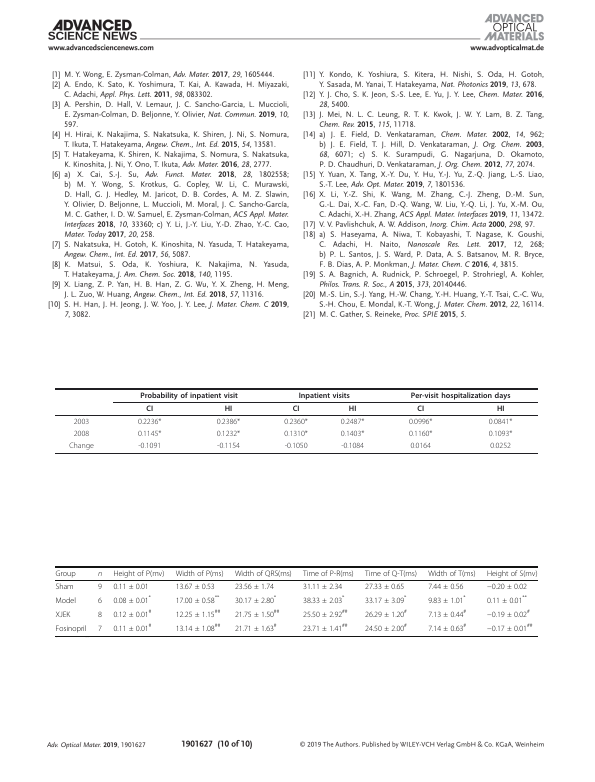borderless: (55, 565, 538, 636), (55, 387, 538, 453)
cell: (410, 391, 511, 400), (139, 391, 239, 400), (234, 569, 293, 578), (486, 622, 533, 633), (175, 608, 221, 619), (234, 608, 280, 619), (302, 608, 348, 619), (175, 622, 221, 633), (302, 622, 348, 633), (175, 594, 220, 605), (486, 608, 531, 619), (364, 569, 418, 578), (364, 608, 408, 619), (234, 622, 278, 633), (364, 622, 408, 633), (298, 391, 351, 400), (112, 569, 165, 578), (302, 569, 355, 578), (234, 594, 277, 605), (302, 594, 345, 605), (364, 594, 407, 605), (486, 569, 538, 578), (486, 594, 528, 605), (427, 569, 477, 578), (175, 569, 224, 578), (112, 594, 152, 605), (427, 594, 467, 605), (112, 608, 152, 619), (427, 608, 467, 619), (112, 622, 152, 633), (427, 622, 467, 633), (486, 582, 528, 591), (175, 582, 216, 591), (234, 582, 275, 591), (302, 582, 343, 591), (364, 582, 405, 591), (112, 582, 150, 591), (427, 582, 464, 591), (55, 624, 87, 633), (68, 441, 95, 451), (283, 417, 309, 427), (283, 429, 309, 439), (137, 417, 162, 427), (216, 417, 241, 427), (340, 417, 365, 427), (408, 417, 433, 427), (488, 417, 513, 427), (137, 429, 162, 439), (216, 429, 241, 439), (340, 429, 365, 439), (408, 429, 433, 439), (488, 429, 513, 439), (137, 441, 162, 451), (216, 441, 241, 451), (340, 441, 365, 451), (284, 441, 308, 451), (409, 441, 432, 451), (489, 441, 512, 451), (55, 596, 77, 605), (55, 569, 76, 578), (55, 582, 74, 591), (73, 417, 90, 427), (73, 429, 90, 439), (55, 610, 71, 619), (145, 404, 154, 414), (224, 404, 233, 414), (348, 404, 357, 414), (416, 404, 425, 414), (496, 404, 505, 414), (292, 404, 300, 414), (97, 582, 103, 591), (97, 596, 103, 605), (97, 610, 103, 619), (97, 624, 103, 633), (97, 571, 103, 577)
